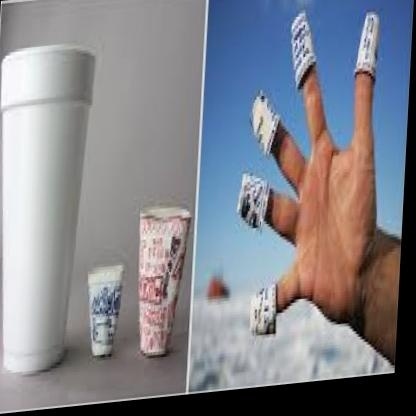trash: (1, 45, 93, 372), (138, 207, 190, 355), (88, 264, 123, 356)
